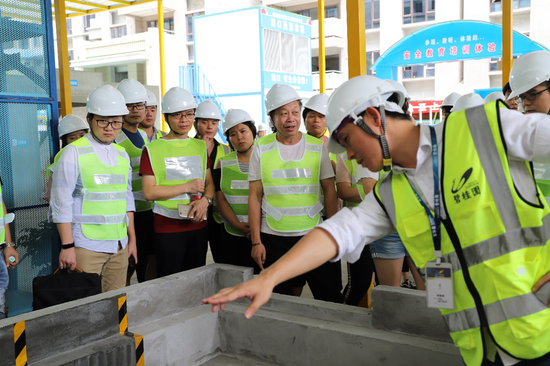person: (203, 73, 550, 366), (249, 82, 344, 303), (48, 82, 139, 294), (139, 87, 215, 283), (213, 106, 258, 263)
reflective_vest: (372, 97, 550, 366), (256, 130, 326, 233), (66, 136, 133, 242), (141, 136, 208, 220), (210, 149, 250, 237)
safety_helmet: (324, 73, 419, 174), (506, 49, 550, 115), (85, 82, 131, 145), (262, 83, 304, 139), (159, 86, 198, 136), (222, 106, 258, 155), (116, 77, 149, 127), (302, 92, 329, 137), (57, 113, 90, 149), (194, 98, 222, 140), (141, 88, 159, 128)
